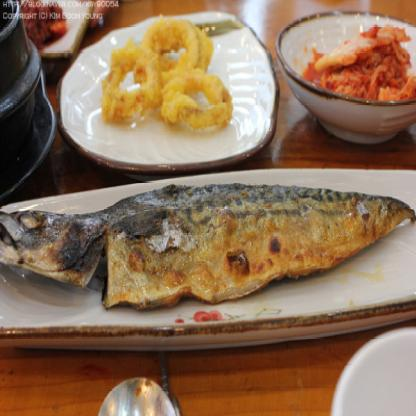Peixe: (0, 162, 416, 361)
